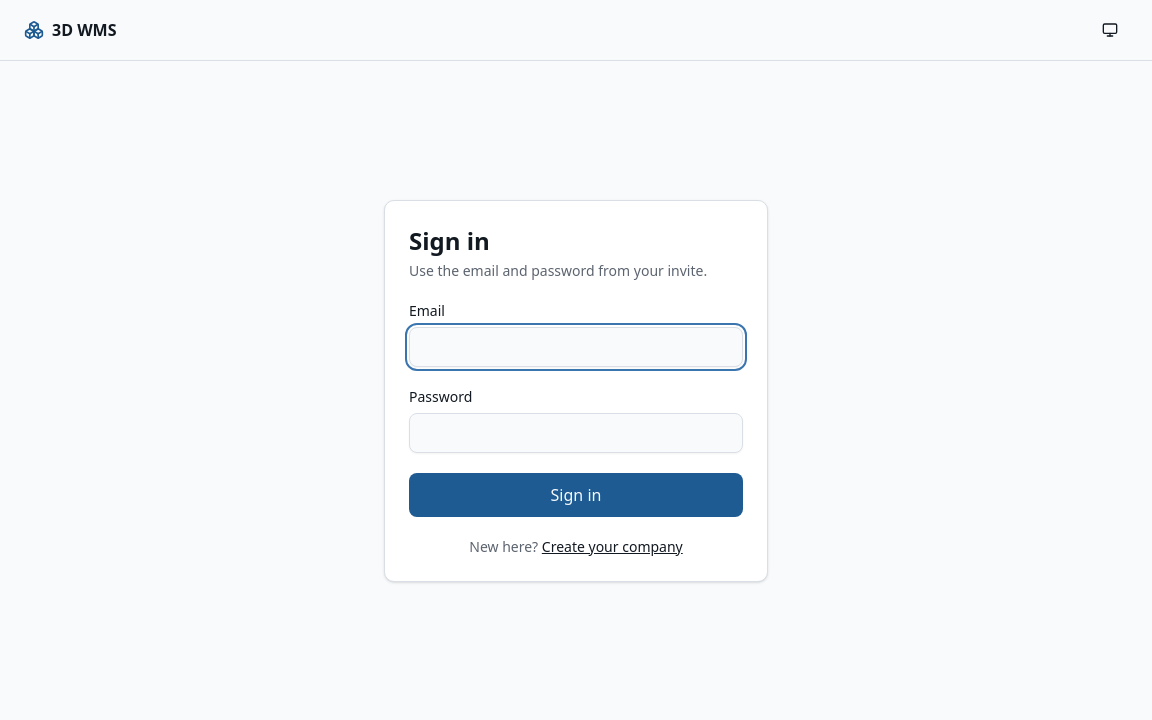
Test case: LoginPage › validates before calling the server
Click the button "Sign in" at x=576, y=494, box x1=409 y1=472 x2=743 y2=516
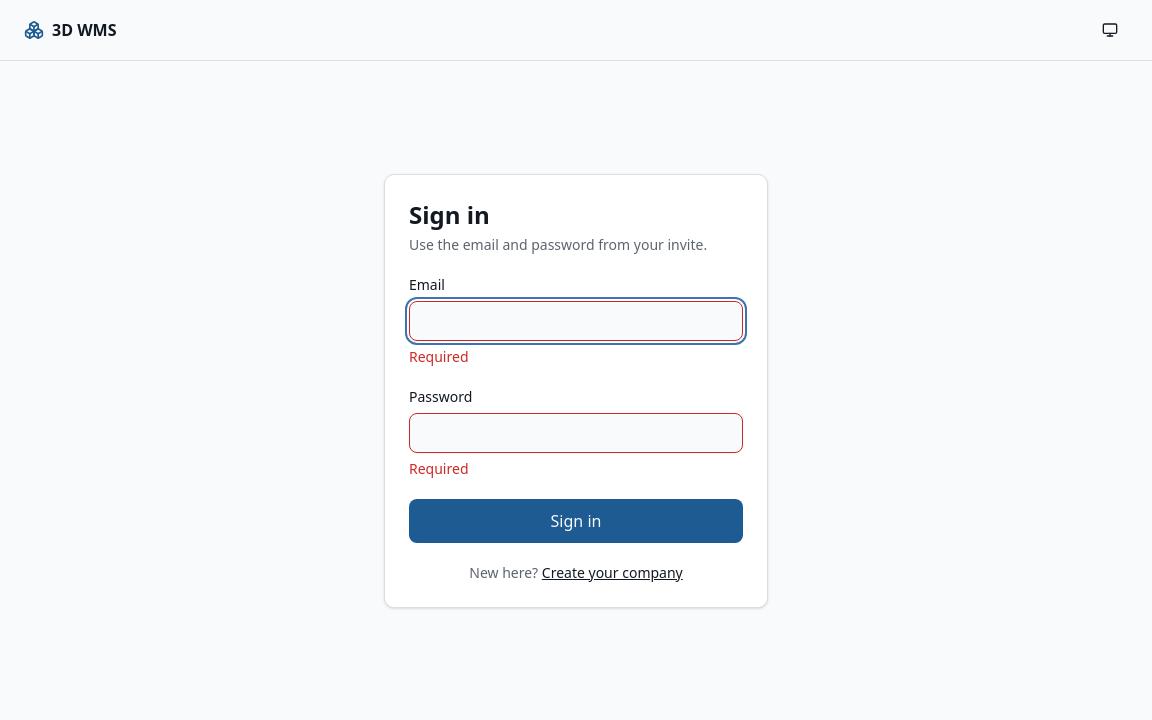
Now the text "Required" is shown 2 times, box x1=409 y1=346 x2=468 y2=366; x1=409 y1=458 x2=468 y2=478
